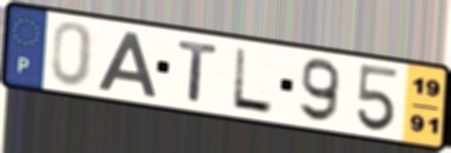0: (48, 20, 96, 89)
5: (354, 62, 401, 134)
9: (296, 58, 343, 125)
A: (94, 29, 159, 98)
L: (229, 45, 276, 117)
T: (175, 38, 222, 105)
